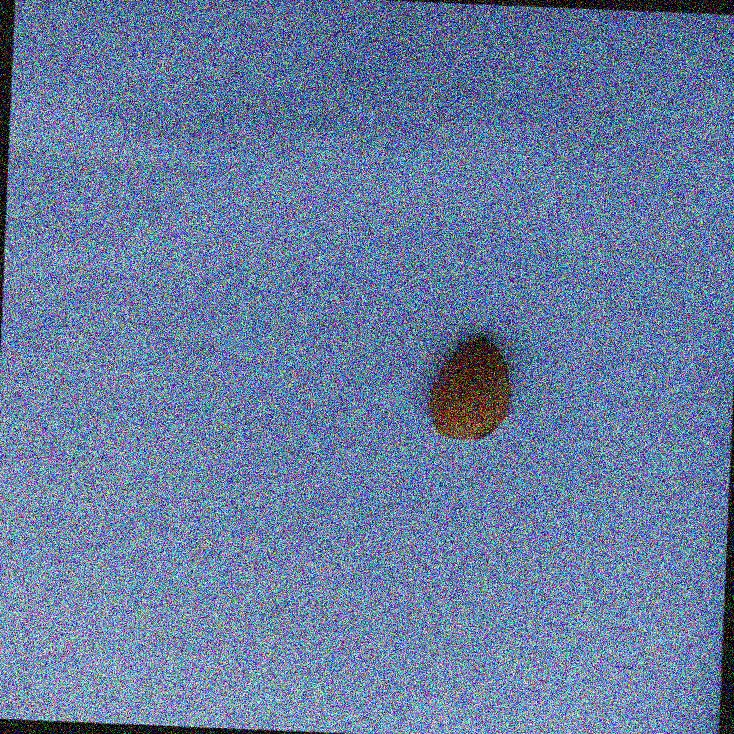grade2: (421, 332, 517, 445)
